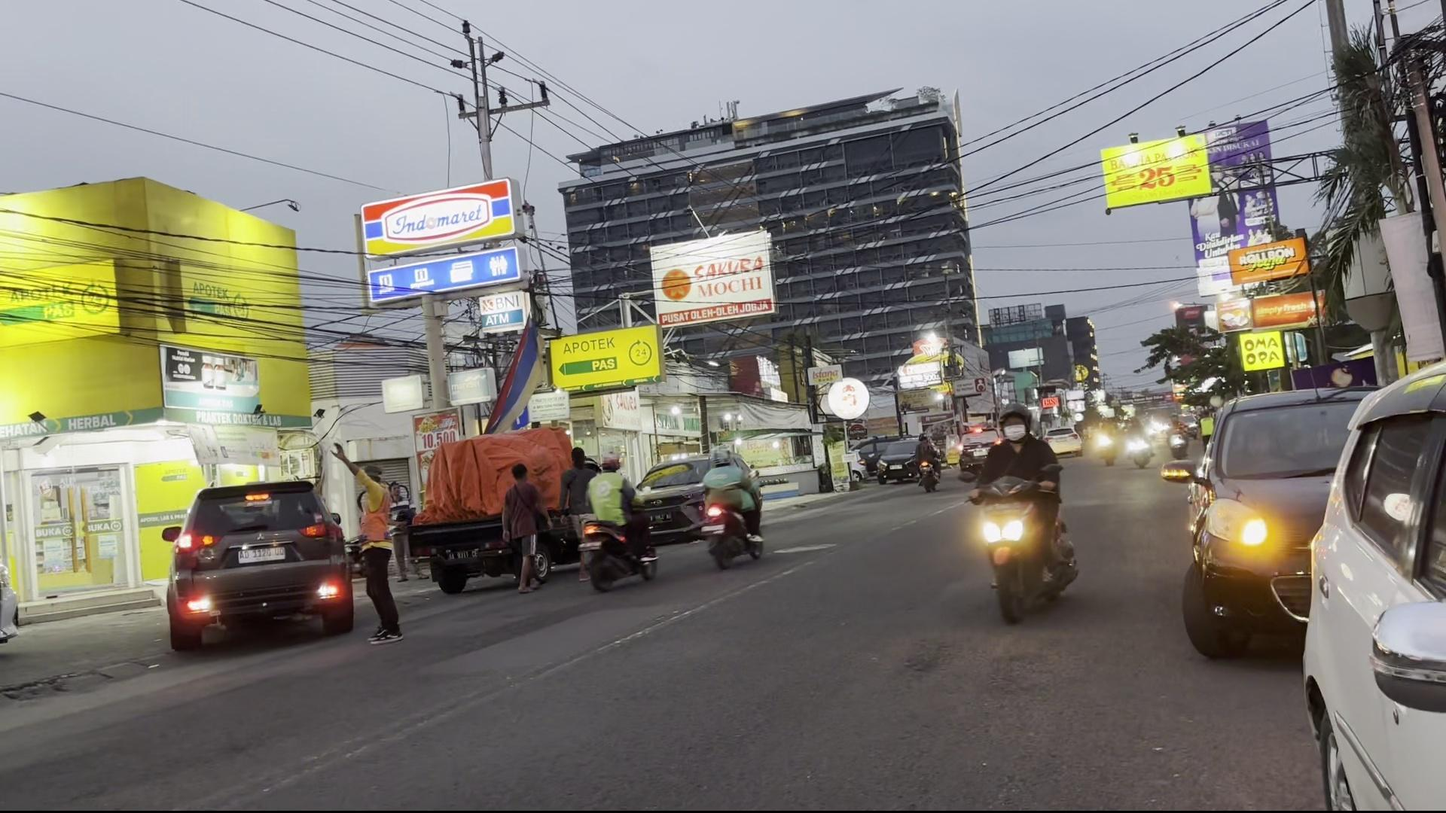helm: (1000, 401, 1035, 445)
riding: (965, 396, 1083, 627)
